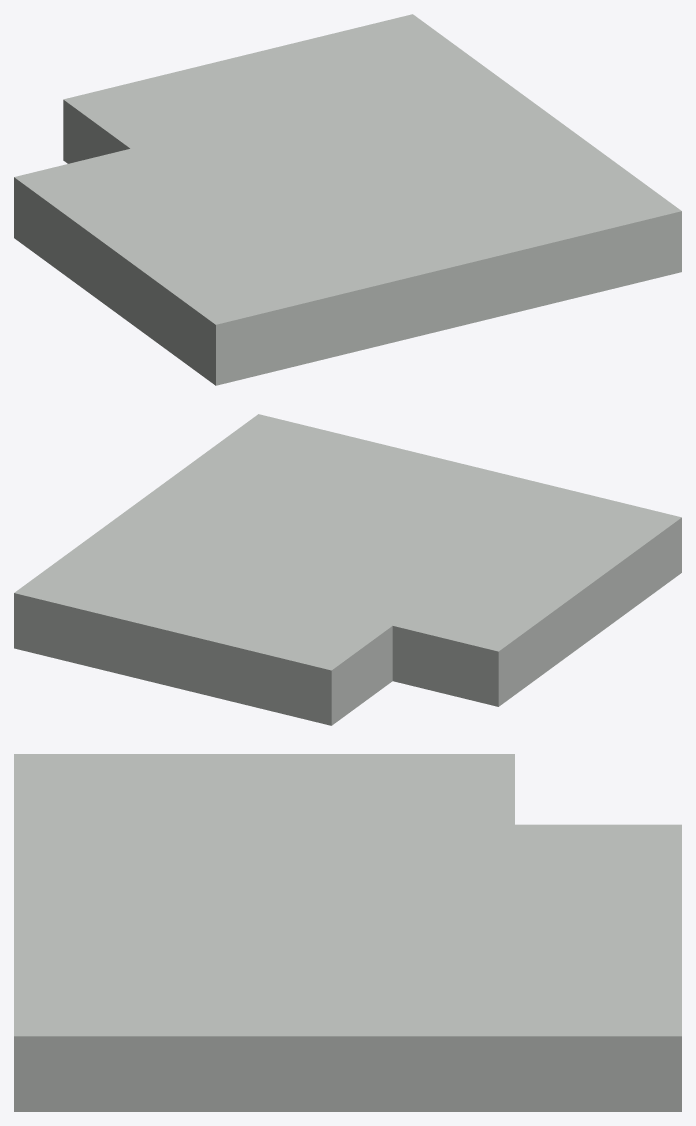
Rendered from Sidewalk02.fbx.
3 renders of one model, top to bottom at view 1: azimuth 30°, elevation 25°; view 2: azimuth 150°, elevation 25°; view 3: azimuth 270°, elevation 25°, orthographic. The views are drawn at different scales.
Parts seen in each view (by area): view 1: Sidewalk02; view 2: Sidewalk02; view 3: Sidewalk02.
Part boxes in pixels (x1=…): Sidewalk02: x1=14, y1=14, x2=681, y2=385; Sidewalk02: x1=14, y1=414, x2=681, y2=725; Sidewalk02: x1=14, y1=754, x2=681, y2=1111.
Bounding box in the file's own units: 4 × 0.5 × 4.
